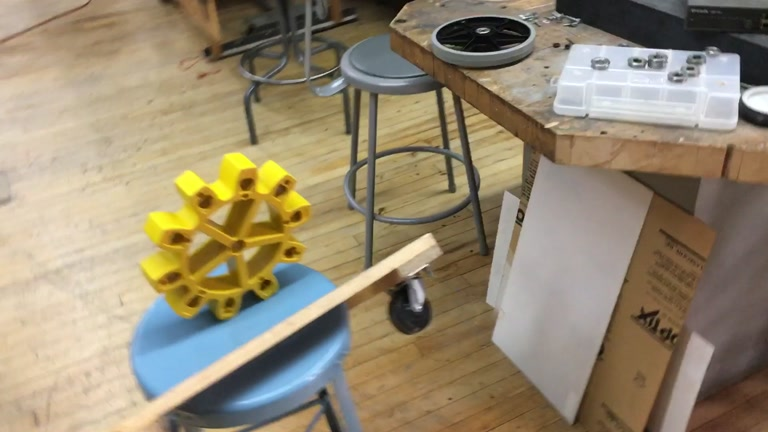gear: (140, 151, 311, 323)
